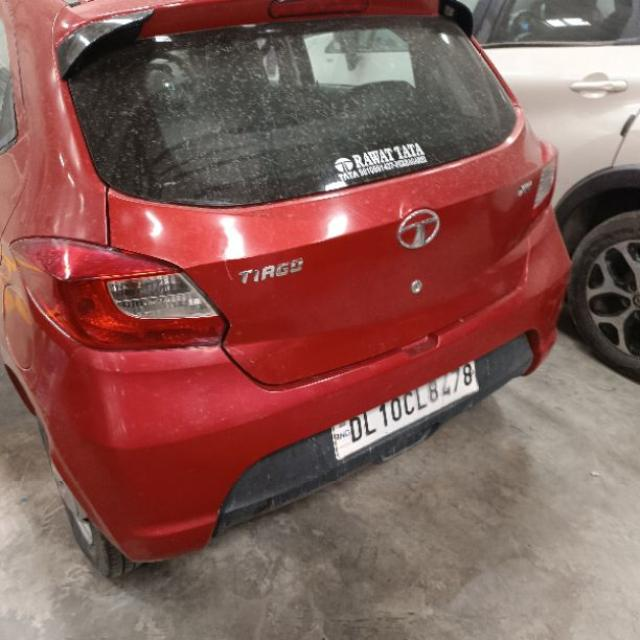license_plate: (329, 359, 480, 461)
